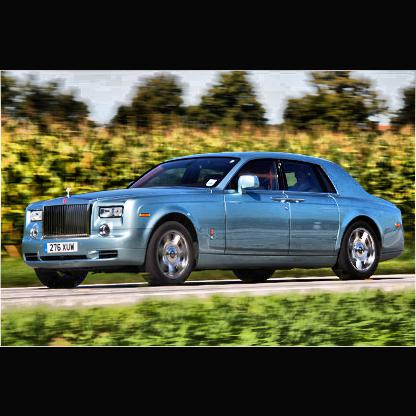Rolls-Royce Phantom Sedan 2012: (20, 148, 408, 290)
